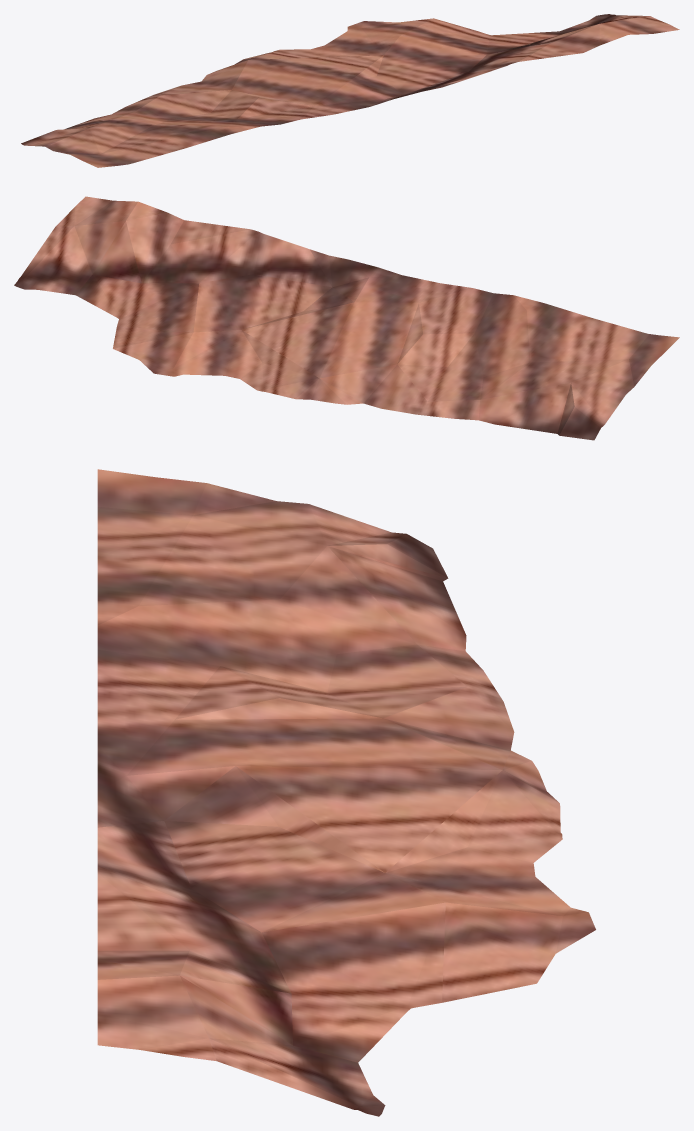
3 views of the same model, one above another, from view 1: azimuth 30°, elevation 25°; view 2: azimuth 150°, elevation 25°; view 3: azimuth 270°, elevation 25° (orthographic). The views are drawn at different scales.
Bounding box in the file's own units: 0.8374 × 0.0594 × 0.3105.
Materials: 1 (1 with a texture image).
